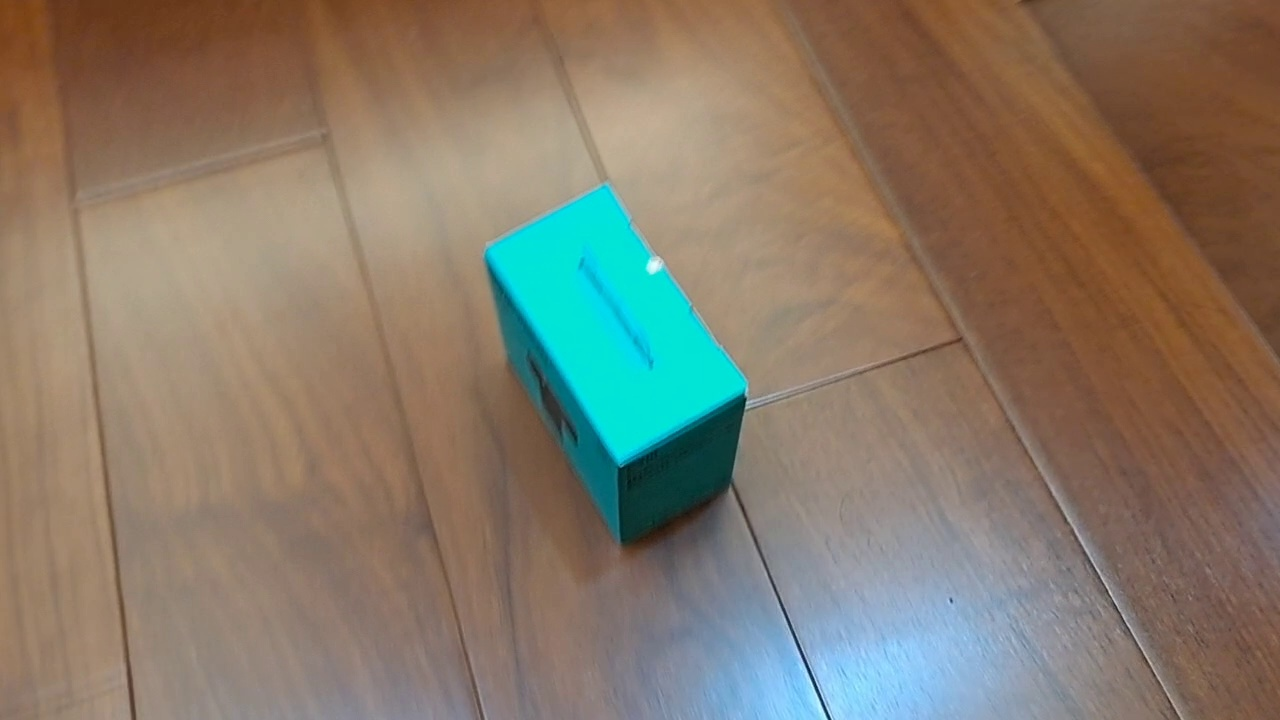webcam: (482, 180, 752, 551)
